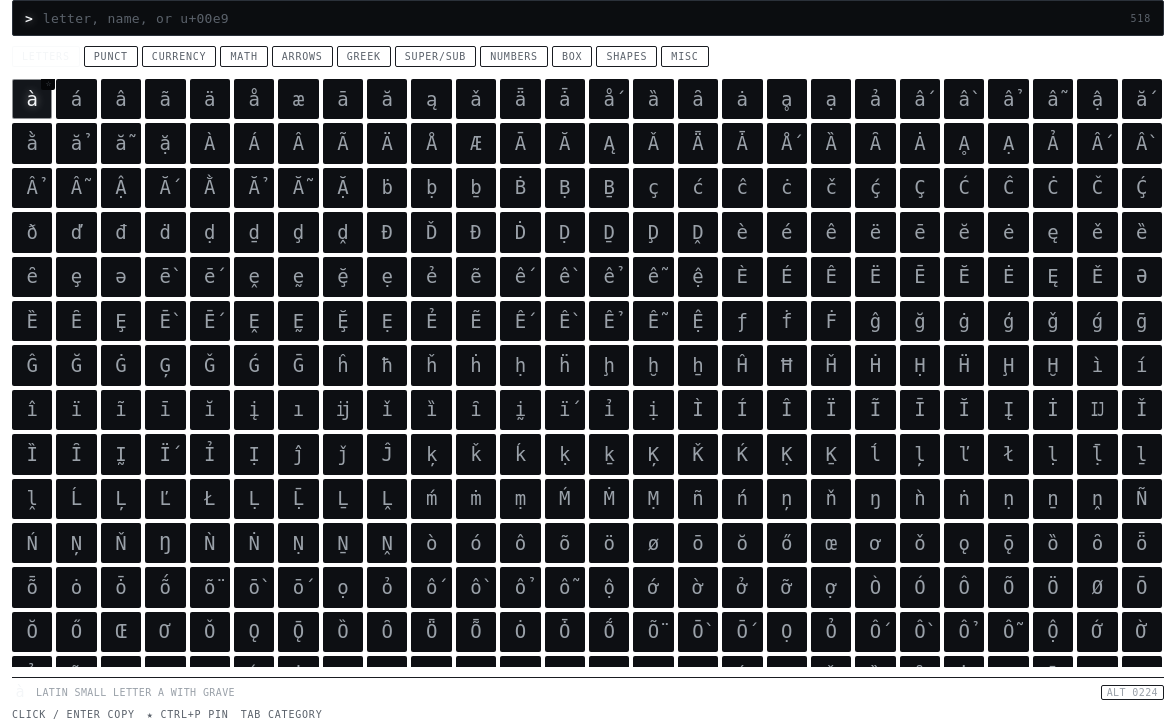
Test: GlyphsPanel › switches category on click and clears the query
Step 1. Type "euro" into the field named "Search characters" → (582, 18), box [41,10,1122,26]
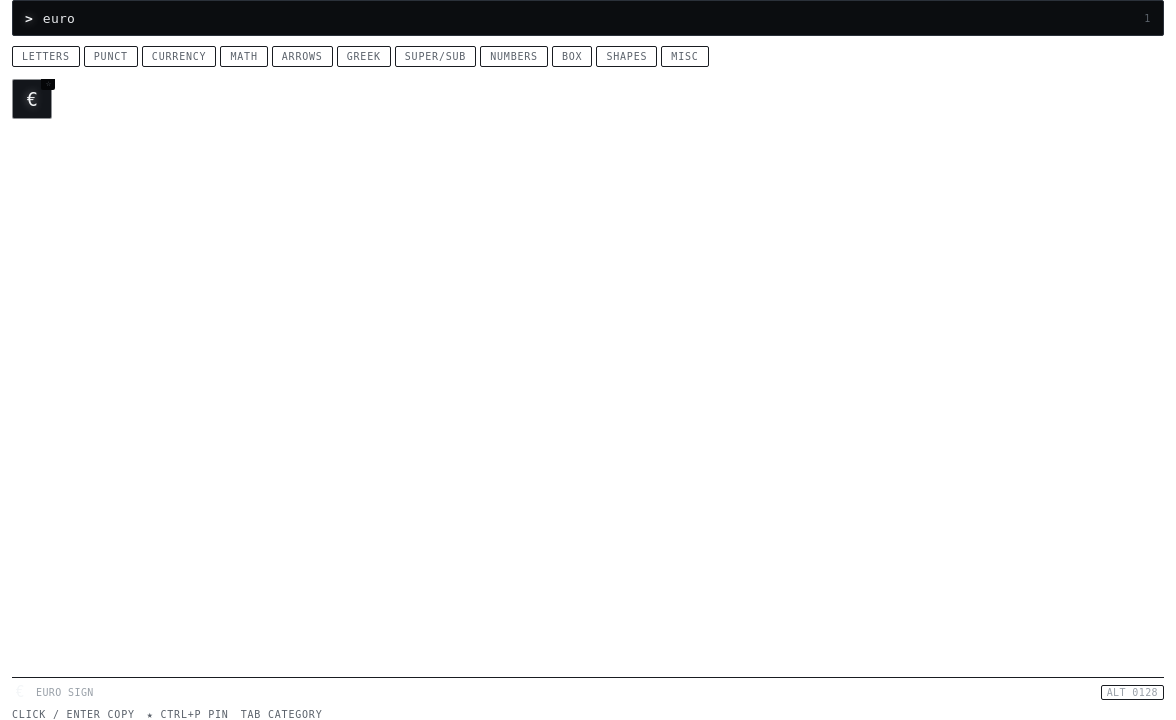
Step 2. Click the tab "GREEK" → (364, 56), box [337,46,391,67]
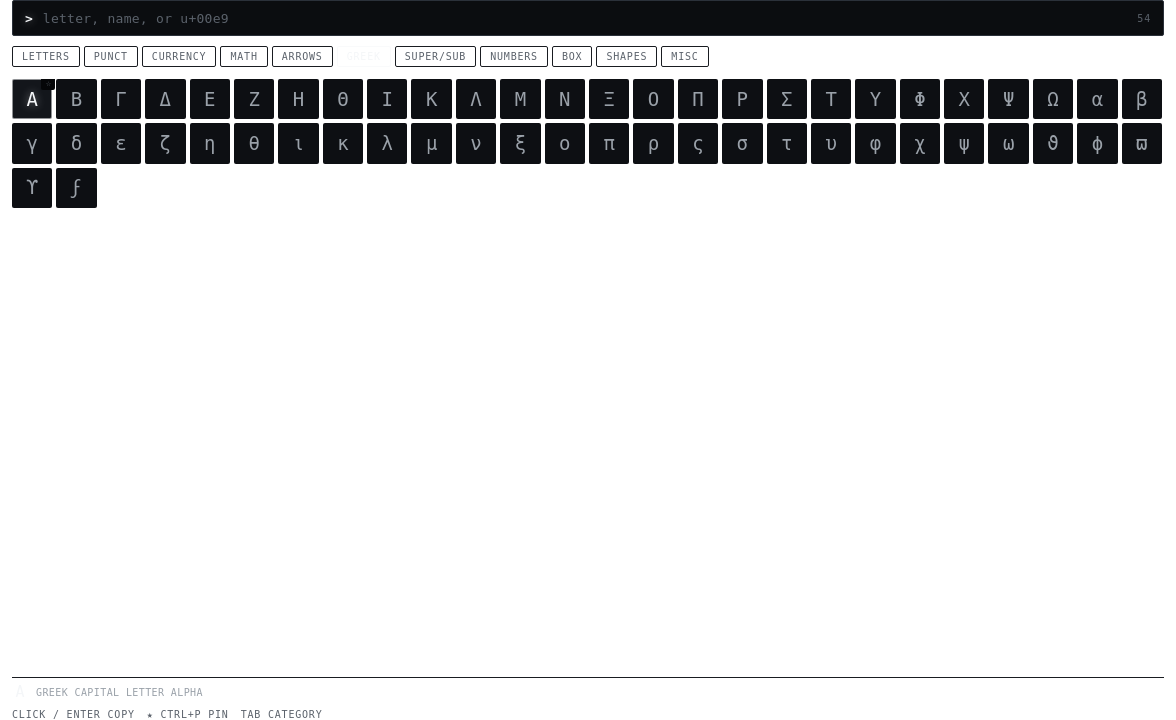
Expected: the field named "Search characters" is empty, [41,10,1129,26]
Expected: the button named "GREEK SMALL LETTER PI" is shown, [589,123,629,164]
